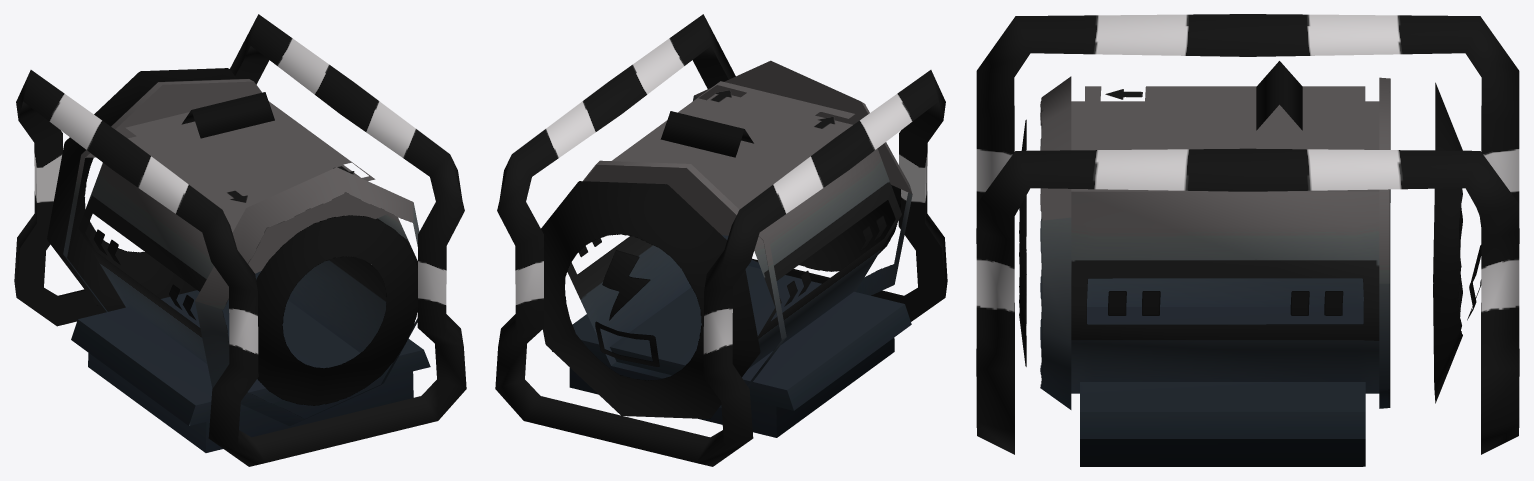
File: obj_interactive_electricengine_03_lod1.fbx
The picture shows the model from 3 angles, left to right: view 1: azimuth 30°, elevation 25°; view 2: azimuth 150°, elevation 25°; view 3: azimuth 270°, elevation 25°; orthographic projection. The views are drawn at different scales.
Parts seen in each view (by area): view 1: obj_interactive_electricengine_03_on1; view 2: obj_interactive_electricengine_03_on1; view 3: obj_interactive_electricengine_03_on1.
Part boxes in pixels (bbox=[...]): obj_interactive_electricengine_03_on1: bbox=[14, 14, 466, 466]; obj_interactive_electricengine_03_on1: bbox=[495, 14, 947, 466]; obj_interactive_electricengine_03_on1: bbox=[976, 14, 1519, 466].
Size of the model in its own units: 2.02 by 2.02 by 3.07.
1 material, 1 textured.
